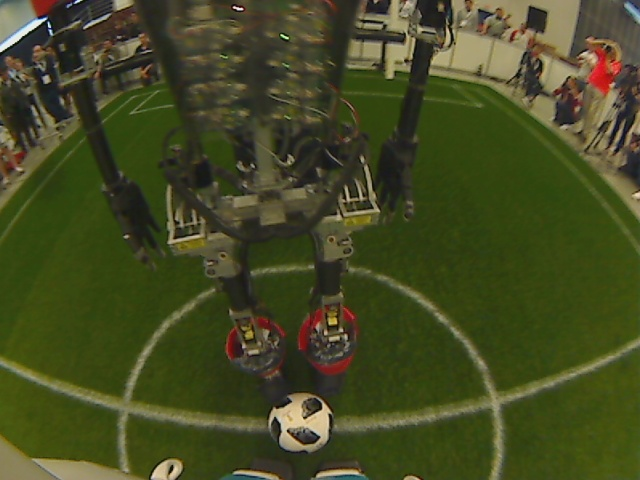ball: (269, 392, 333, 451)
goalpost: (374, 64, 402, 87)
robot: (228, 302, 364, 389)
